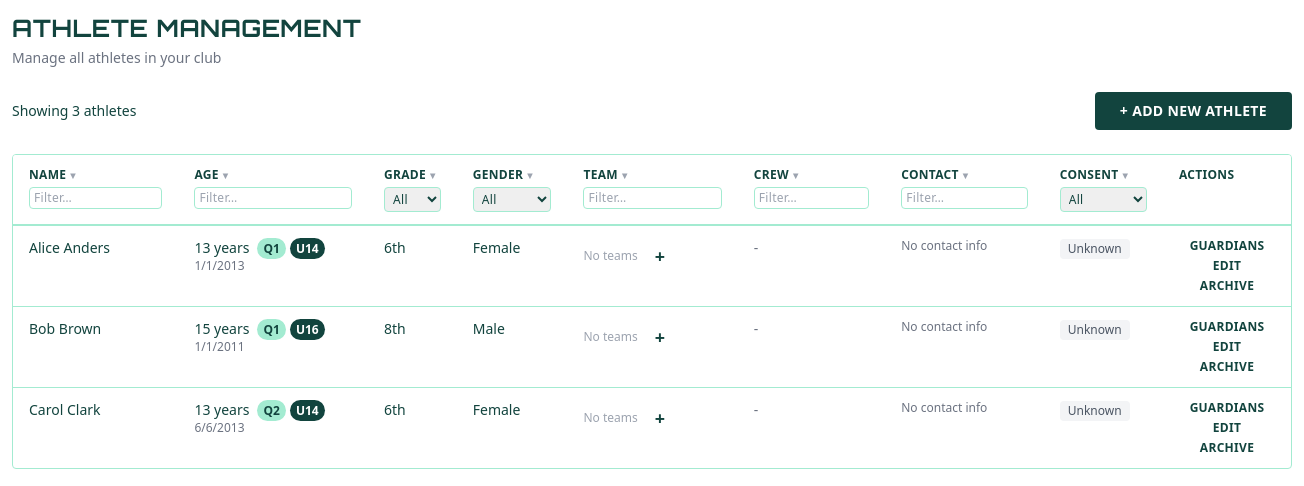
AthleteManagement search + filters (CA-18) › filters by gender
The width and height of the screenshot is (1304, 486).
Expected: the link "Bob Brown" is shown, [29,319,101,338]
// Gender option values are lowercase.
Step 1. Select "Male" in the 2nd dropdown → (512, 200), box [473,187,552,212]
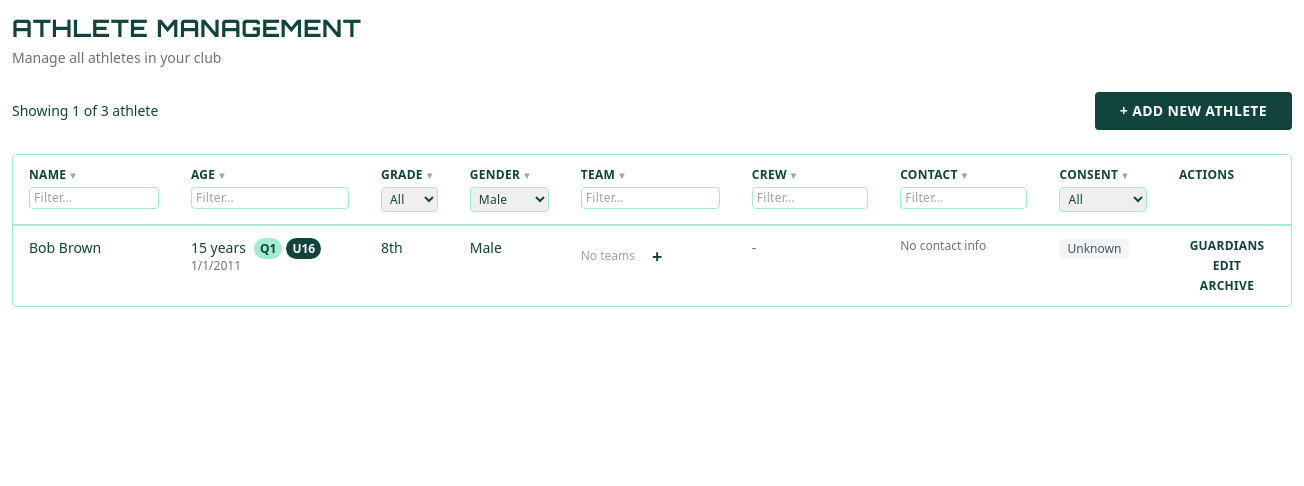
Expected: the link "Bob Brown" is shown, [29,238,101,257]
Now the link "Alice Anders" is gone
Now the link "Carol Clark" is gone
